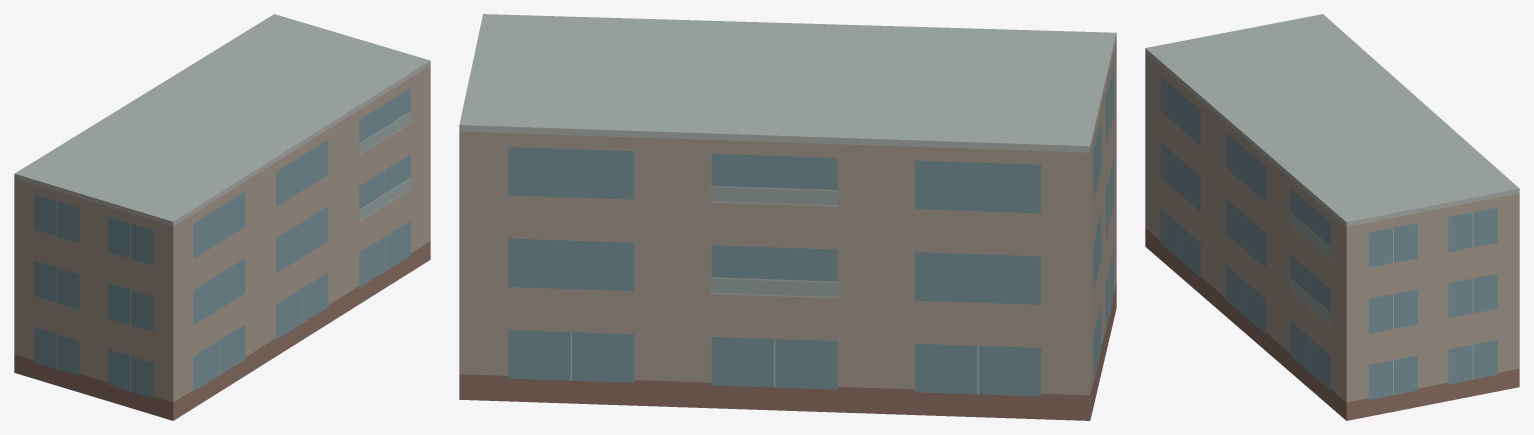
File: survey-upis-32588506.glb
3 renders of one model, left to right at view 1: azimuth 30°, elevation 25°; view 2: azimuth 150°, elevation 25°; view 3: azimuth 270°, elevation 25°, orthographic. The views are drawn at different scales.
Visible parts, largest first — view 1: survey-upis-32588506.tmp; view 2: survey-upis-32588506.tmp; view 3: survey-upis-32588506.tmp.
Boxes of the visible parts, left/top/right/bottom form: survey-upis-32588506.tmp: left=14, top=14, right=430, bottom=420; survey-upis-32588506.tmp: left=459, top=14, right=1116, bottom=420; survey-upis-32588506.tmp: left=1145, top=14, right=1519, bottom=420.
Size of the model in its own units: 23.19 by 10.3 by 17.61.
